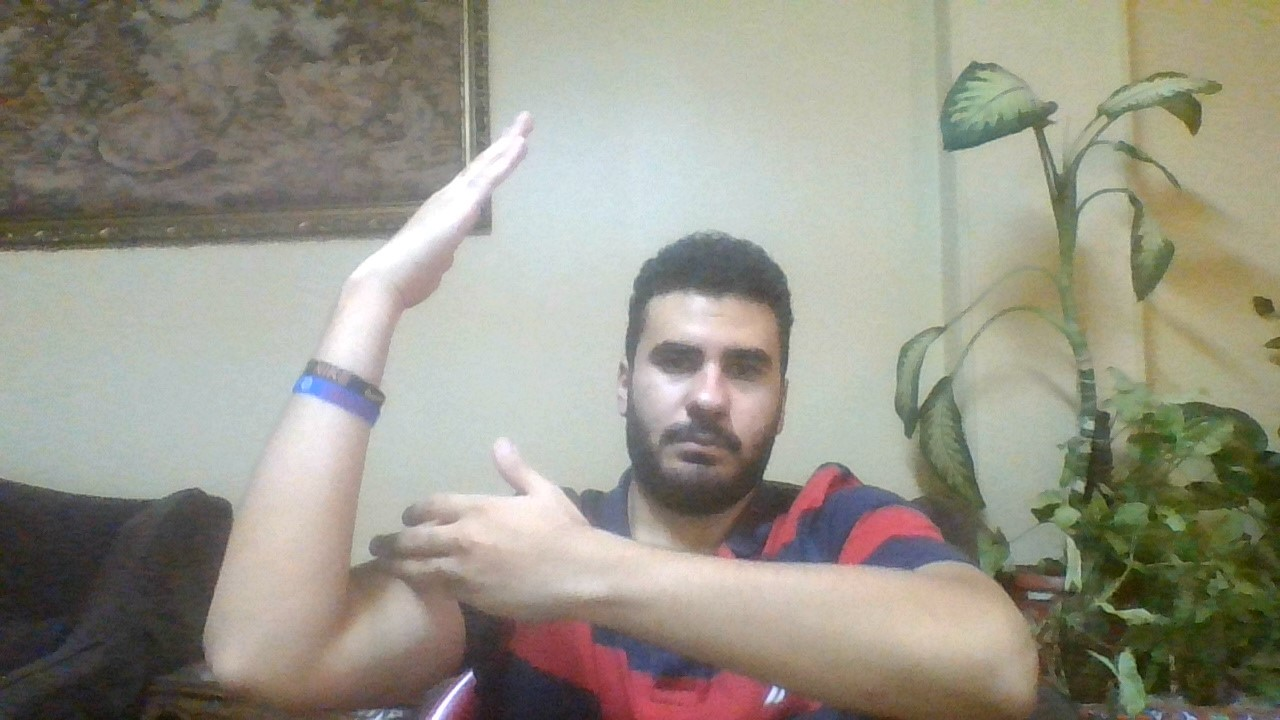morning: (294, 93, 590, 673)
